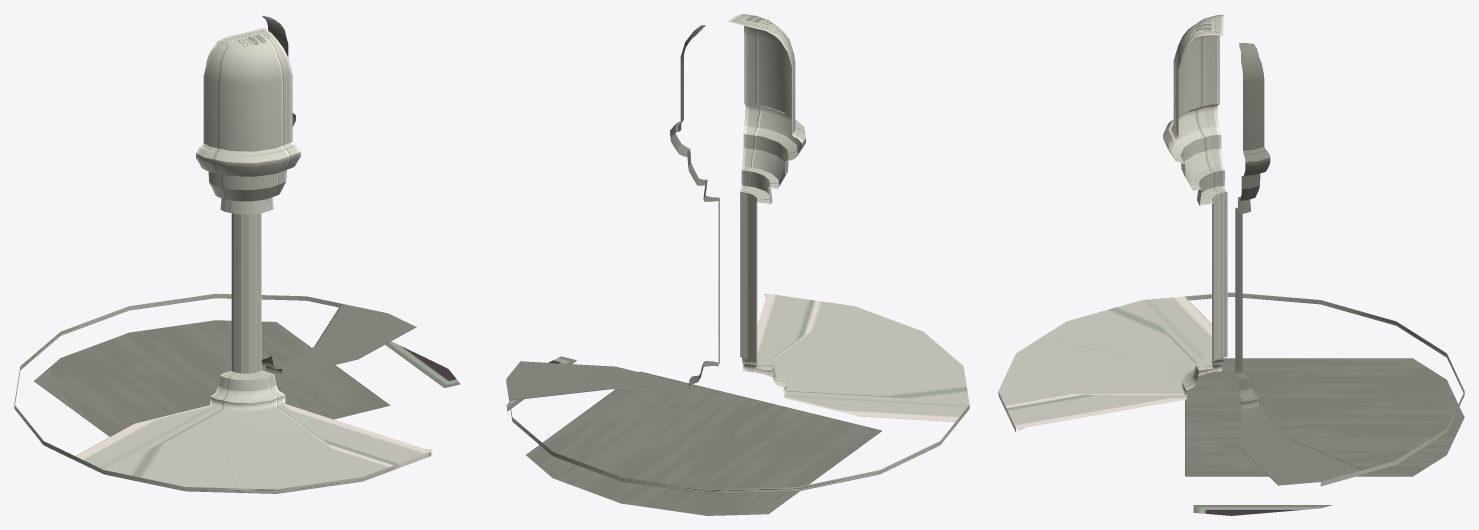
Rendered from thingie.fbx.
3 renders of one model, left to right at view 1: azimuth 30°, elevation 25°; view 2: azimuth 150°, elevation 25°; view 3: azimuth 270°, elevation 25°, orthographic.
Visible parts, largest first — view 1: thingie; view 2: thingie; view 3: thingie.
Part boxes in pixels (x1=…): thingie: x1=14, y1=15, x2=460, y2=493; thingie: x1=506, y1=14, x2=969, y2=515; thingie: x1=998, y1=14, x2=1464, y2=515.
Bounding box in the file's own units: 200 × 184 × 200.
